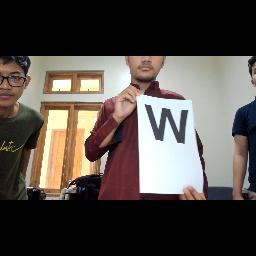w: (142, 101, 190, 147)
